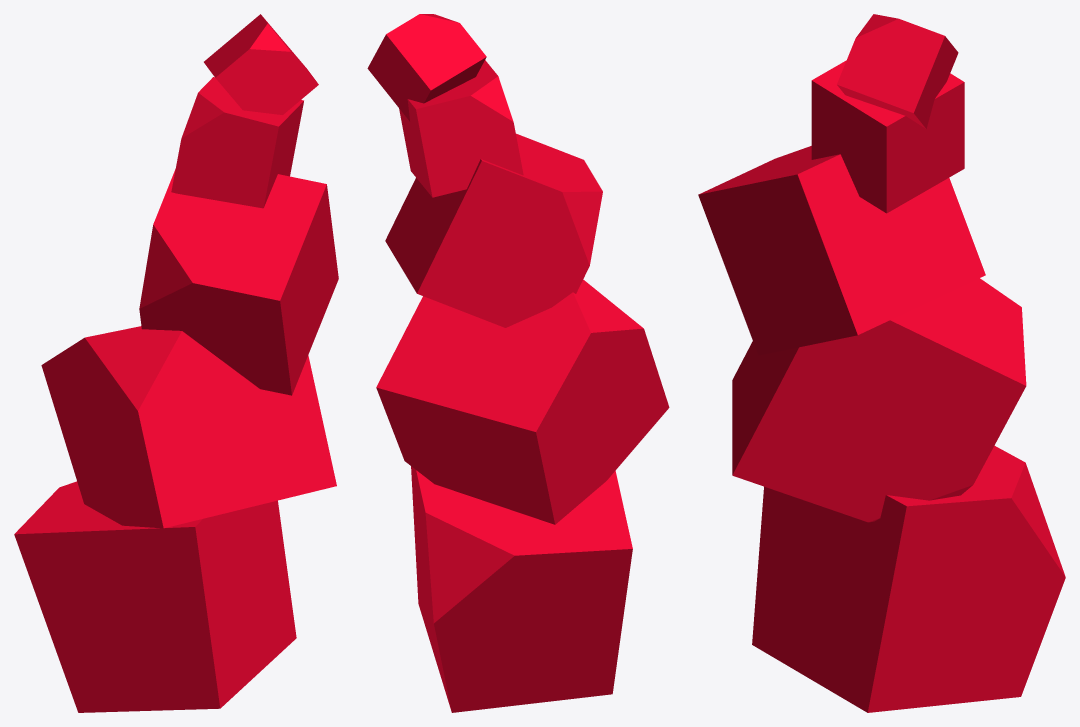
Rendered from CubRock001.FBX.
3 renders of one model, left to right at view 1: azimuth 30°, elevation 25°; view 2: azimuth 150°, elevation 25°; view 3: azimuth 270°, elevation 25°, orthographic. The views are drawn at different scales.
Parts seen in each view (by area): view 1: RockPile030, RockPile031, RockPile032, RockPile029, RockPile033; view 2: RockPile031, RockPile030, RockPile032, RockPile029, RockPile033; view 3: RockPile030, RockPile031, RockPile032, RockPile029, RockPile033.
Boxes of the visible parts, x1=… form: RockPile030: x1=14, y1=481, x2=296, y2=712; RockPile031: x1=41, y1=326, x2=336, y2=528; RockPile032: x1=139, y1=169, x2=338, y2=395; RockPile029: x1=171, y1=77, x2=303, y2=208; RockPile033: x1=204, y1=14, x2=318, y2=114; RockPile031: x1=376, y1=279, x2=669, y2=524; RockPile030: x1=411, y1=466, x2=632, y2=712; RockPile032: x1=385, y1=133, x2=602, y2=327; RockPile029: x1=399, y1=60, x2=523, y2=197; RockPile033: x1=367, y1=14, x2=486, y2=121; RockPile030: x1=752, y1=445, x2=1065, y2=712; RockPile031: x1=732, y1=278, x2=1026, y2=522; RockPile032: x1=698, y1=146, x2=985, y2=355; RockPile029: x1=811, y1=60, x2=964, y2=213; RockPile033: x1=837, y1=14, x2=958, y2=128.
Bounding box in the file's own units: 76.88 × 165 × 75.59.
